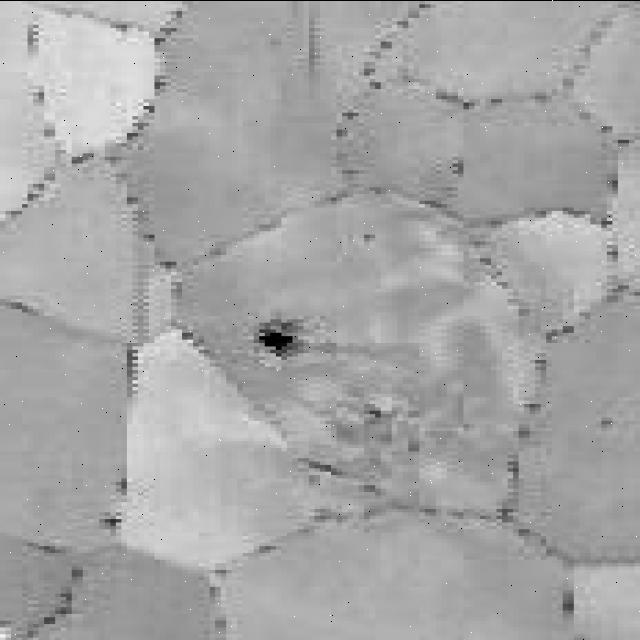good_void: (255, 316, 309, 356)
